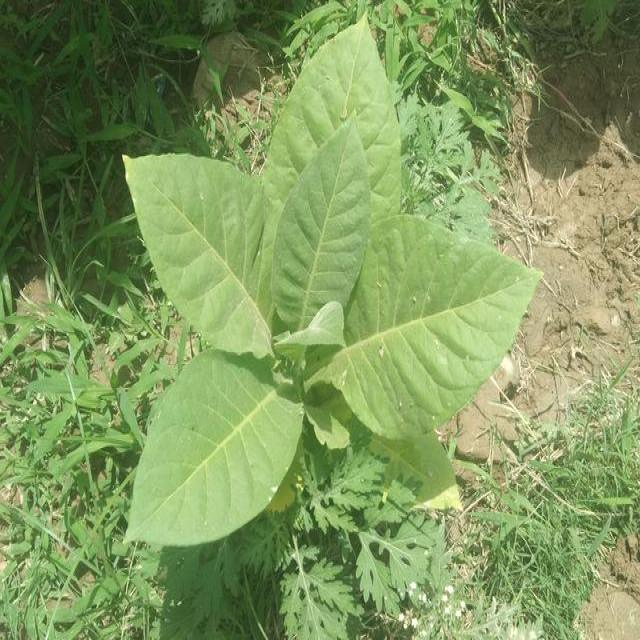crop: (119, 20, 551, 567)
